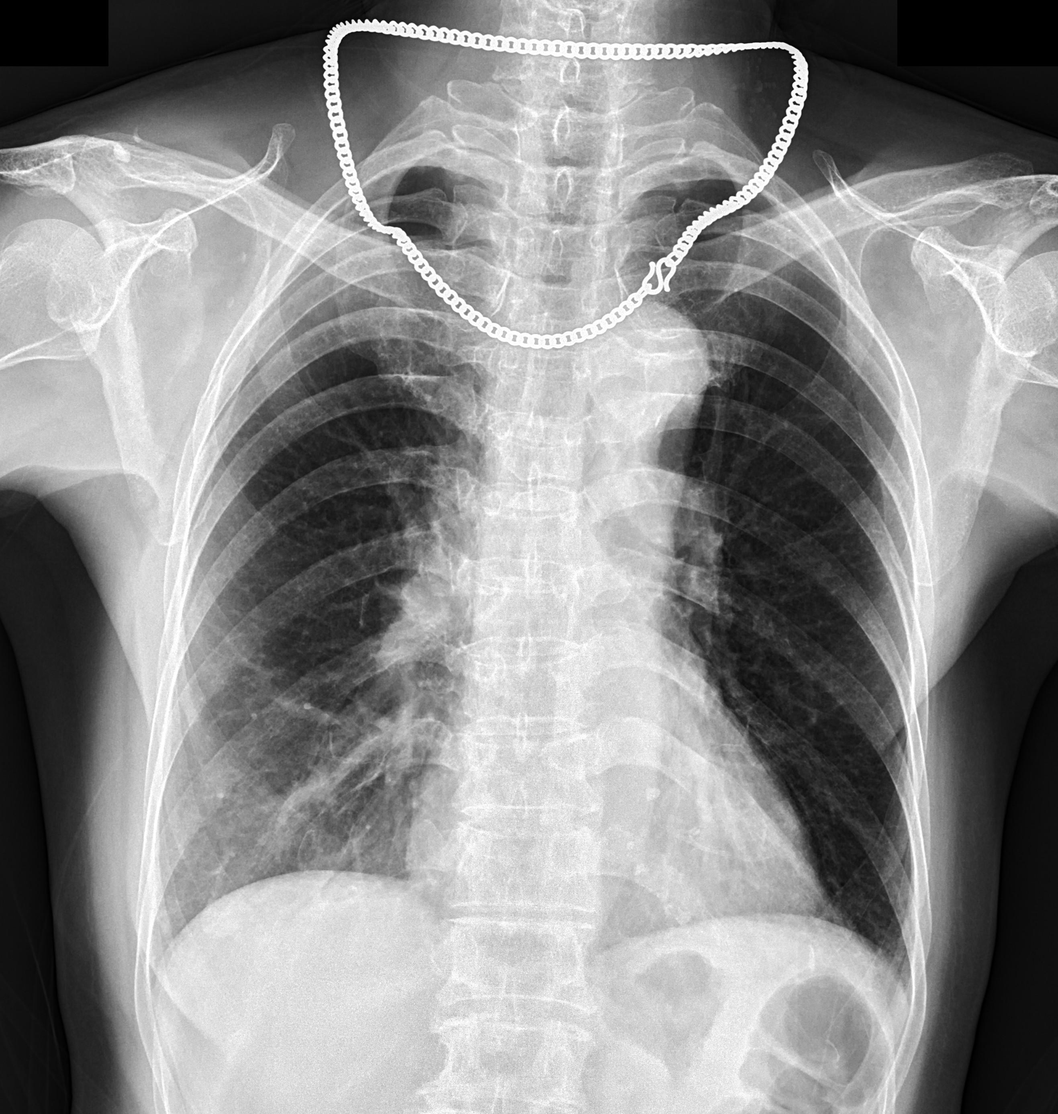Aortic enlargement: (580, 298, 710, 460)
Cardiomegaly: (403, 804, 821, 948)
Pleural thickening: (645, 171, 712, 195), (413, 165, 465, 182)
Pulmonary fibrosis: (272, 712, 429, 864)
